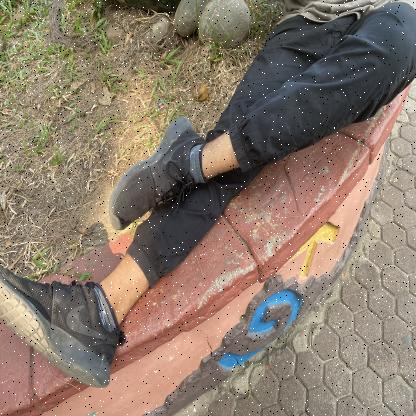leg: (75, 90, 385, 232), (0, 237, 233, 402)
